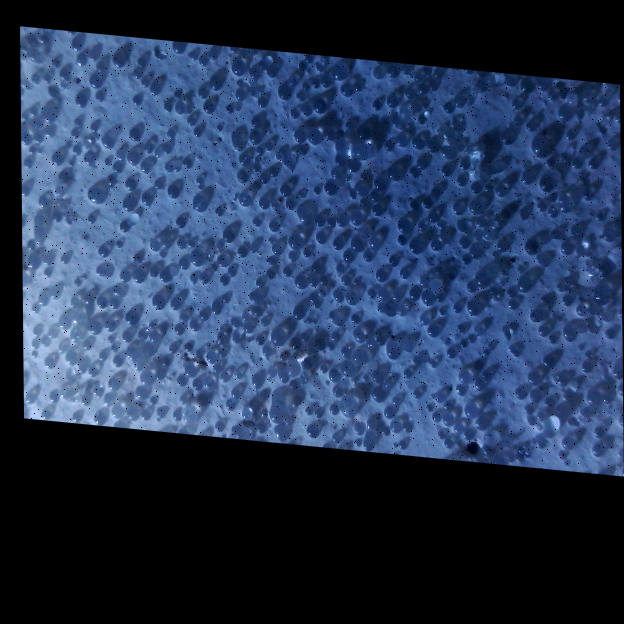GrassBeadSeg: (530, 139, 549, 159), (339, 396, 355, 417), (86, 188, 106, 204), (188, 250, 206, 267), (330, 65, 348, 81), (268, 406, 284, 424), (347, 238, 366, 253), (407, 239, 425, 254), (395, 219, 413, 234), (230, 60, 246, 76), (516, 277, 533, 292), (305, 130, 322, 145), (385, 343, 400, 360), (464, 302, 482, 316), (351, 350, 369, 364), (370, 388, 386, 403), (287, 234, 303, 249), (276, 86, 292, 101), (311, 99, 327, 114), (339, 363, 355, 378), (592, 291, 608, 306), (371, 177, 388, 191), (467, 201, 484, 215), (321, 182, 338, 196), (270, 331, 285, 346), (139, 371, 154, 386), (292, 276, 308, 290), (120, 198, 136, 212), (561, 328, 577, 342), (123, 311, 139, 325), (207, 77, 223, 91), (556, 105, 570, 121), (192, 196, 206, 212), (150, 296, 165, 310), (352, 330, 367, 344), (111, 55, 126, 69), (297, 209, 311, 224), (463, 405, 479, 418), (585, 392, 601, 405), (354, 127, 370, 140), (274, 427, 288, 441), (526, 372, 541, 385), (425, 325, 440, 338), (538, 179, 553, 192), (590, 445, 605, 458), (338, 84, 353, 97), (425, 141, 440, 154), (330, 238, 345, 251), (125, 152, 140, 165), (384, 96, 399, 109), (475, 275, 490, 288), (247, 130, 260, 145), (40, 109, 53, 124), (345, 291, 358, 306), (247, 292, 263, 304), (473, 419, 489, 431), (385, 169, 401, 181), (74, 95, 88, 108), (374, 270, 388, 283), (305, 426, 319, 439), (327, 369, 341, 382), (171, 41, 185, 54), (369, 371, 383, 384), (63, 352, 77, 365), (292, 130, 305, 144), (519, 81, 533, 94), (26, 256, 40, 269), (367, 237, 381, 250), (421, 291, 434, 305), (493, 185, 508, 197), (528, 311, 543, 323), (370, 205, 385, 217), (382, 407, 397, 419), (558, 243, 573, 255), (290, 308, 305, 320), (519, 173, 534, 185), (501, 130, 513, 145), (524, 240, 536, 255), (140, 193, 153, 206), (216, 255, 229, 268), (221, 229, 234, 242), (232, 138, 245, 151), (349, 213, 362, 226), (235, 172, 249, 184), (88, 77, 102, 89), (574, 305, 588, 317), (371, 68, 385, 80), (346, 161, 360, 173), (561, 438, 575, 450), (468, 247, 482, 259), (183, 366, 197, 378), (553, 374, 567, 386), (353, 183, 367, 195), (166, 185, 178, 199), (50, 154, 63, 166), (279, 185, 292, 197), (513, 388, 526, 400), (148, 84, 161, 96), (159, 271, 172, 283), (101, 137, 114, 149), (233, 90, 246, 102), (332, 290, 344, 303), (132, 271, 145, 283), (249, 117, 262, 129), (75, 55, 88, 67), (529, 391, 542, 403), (248, 68, 261, 80), (128, 128, 140, 141), (95, 295, 107, 308), (125, 178, 137, 191), (238, 193, 250, 206), (309, 263, 323, 274), (204, 352, 218, 363), (367, 192, 381, 203), (83, 151, 94, 165), (248, 307, 263, 317), (395, 305, 407, 317), (389, 421, 401, 433), (59, 317, 71, 329), (118, 271, 131, 282), (267, 222, 280, 233), (536, 326, 549, 337), (542, 356, 555, 367), (177, 259, 190, 270), (560, 296, 573, 307), (42, 358, 55, 369), (586, 159, 599, 170), (196, 88, 209, 99), (592, 428, 605, 439), (257, 199, 270, 210), (237, 155, 250, 166), (242, 323, 255, 334), (190, 379, 203, 390), (386, 68, 399, 79), (108, 378, 119, 391), (89, 322, 100, 335), (94, 412, 105, 425), (135, 387, 146, 400), (229, 425, 243, 435), (580, 362, 592, 373), (202, 103, 214, 114), (465, 282, 477, 293), (315, 233, 327, 244), (152, 180, 164, 191), (37, 197, 49, 208), (442, 415, 454, 426), (229, 388, 241, 399), (210, 303, 221, 315), (272, 245, 284, 256), (111, 406, 122, 418), (377, 289, 388, 301), (313, 215, 325, 226), (482, 228, 493, 240), (496, 240, 507, 252), (173, 218, 186, 228), (407, 168, 420, 178), (563, 131, 576, 141), (469, 184, 482, 194), (415, 159, 428, 169), (198, 274, 211, 284), (333, 156, 346, 166), (411, 357, 425, 366), (93, 92, 104, 103), (139, 162, 150, 173), (71, 40, 82, 51), (143, 143, 154, 154), (197, 56, 208, 67), (281, 268, 293, 278), (455, 386, 467, 396), (148, 241, 160, 251), (50, 213, 62, 223), (546, 208, 558, 218), (581, 191, 593, 201), (217, 276, 229, 286), (198, 311, 210, 321), (37, 296, 49, 306), (288, 340, 300, 350), (352, 83, 364, 93), (342, 252, 354, 262), (57, 173, 69, 183), (480, 371, 492, 381), (265, 256, 277, 266), (402, 422, 412, 434), (47, 289, 59, 299), (330, 170, 342, 180), (95, 64, 107, 74), (409, 289, 419, 301), (399, 268, 409, 280), (428, 211, 438, 223), (452, 203, 462, 215), (118, 223, 129, 233), (264, 270, 275, 280), (182, 159, 193, 169), (371, 101, 382, 111), (224, 401, 235, 411), (131, 96, 142, 106), (81, 340, 92, 350), (120, 333, 131, 343), (105, 176, 116, 186), (308, 277, 319, 287), (148, 268, 159, 278), (506, 288, 517, 298), (330, 433, 341, 443), (267, 168, 278, 178), (226, 267, 236, 278), (301, 359, 312, 369), (298, 333, 309, 343), (606, 140, 616, 151), (524, 121, 534, 132), (475, 82, 485, 93), (412, 138, 423, 148), (174, 103, 184, 114), (261, 345, 271, 356), (286, 366, 296, 377), (314, 340, 324, 351), (328, 311, 338, 322), (341, 346, 351, 357), (330, 332, 340, 343), (112, 163, 123, 173), (507, 301, 519, 310), (445, 349, 457, 358), (458, 239, 470, 248), (442, 440, 454, 449), (542, 399, 554, 408), (41, 256, 53, 265), (230, 319, 242, 328), (287, 252, 297, 262), (162, 103, 172, 113), (175, 239, 185, 249), (289, 109, 299, 119), (136, 59, 146, 69), (517, 211, 527, 221), (55, 187, 65, 197), (30, 75, 40, 85), (546, 90, 556, 100), (251, 379, 261, 389), (332, 387, 342, 397), (349, 315, 360, 324), (251, 218, 262, 227), (25, 241, 36, 250), (29, 305, 40, 314), (379, 427, 390, 436), (594, 213, 605, 222), (175, 377, 186, 386), (390, 397, 401, 406), (254, 279, 265, 288), (522, 406, 533, 415), (295, 93, 306, 102), (91, 388, 102, 397), (286, 78, 297, 87), (87, 52, 98, 61), (382, 380, 393, 389), (302, 106, 311, 117), (512, 115, 521, 126), (511, 99, 520, 110), (453, 96, 462, 107), (443, 103, 452, 114), (441, 166, 450, 177), (541, 296, 553, 304), (402, 369, 412, 378), (86, 215, 96, 224), (214, 208, 224, 217), (186, 117, 196, 126), (42, 269, 52, 278), (140, 79, 149, 89), (23, 159, 32, 169), (219, 374, 229, 383), (546, 336, 556, 345), (297, 62, 307, 71), (254, 146, 264, 155), (263, 143, 273, 152), (50, 59, 60, 68), (343, 122, 353, 131), (536, 81, 545, 91), (571, 159, 580, 169), (428, 81, 437, 91), (417, 85, 426, 95), (404, 89, 413, 99), (398, 109, 407, 119), (399, 64, 408, 74), (459, 161, 468, 171), (456, 176, 465, 186), (441, 148, 450, 158), (395, 136, 404, 146), (383, 142, 392, 152), (355, 150, 364, 160), (310, 78, 319, 88), (320, 77, 329, 87), (256, 98, 265, 108), (266, 69, 275, 79), (208, 50, 217, 60), (112, 357, 121, 367), (110, 299, 119, 309), (112, 287, 121, 297), (178, 313, 187, 323), (189, 321, 198, 331), (233, 369, 242, 379), (278, 373, 287, 383), (412, 389, 421, 399), (443, 401, 452, 411), (452, 424, 461, 434), (482, 446, 491, 456), (504, 451, 513, 461), (526, 416, 535, 426), (604, 329, 613, 339), (430, 241, 439, 251), (417, 222, 426, 232), (259, 174, 268, 184), (323, 131, 332, 141), (460, 257, 471, 265), (133, 254, 142, 263), (131, 70, 140, 79), (114, 151, 123, 160), (104, 322, 113, 331), (98, 248, 107, 257), (266, 368, 275, 377), (247, 402, 256, 411), (462, 431, 471, 440), (535, 439, 544, 448), (171, 411, 180, 420), (256, 424, 265, 433), (354, 426, 363, 435), (601, 394, 610, 403), (612, 369, 621, 378), (452, 304, 461, 313), (396, 236, 405, 245), (366, 289, 375, 298), (326, 219, 335, 228), (237, 248, 246, 257), (71, 146, 81, 154), (557, 451, 567, 459), (21, 186, 29, 196), (212, 365, 222, 373), (73, 120, 83, 128), (259, 319, 269, 327), (219, 296, 229, 304), (225, 104, 233, 114), (149, 332, 157, 342), (95, 266, 103, 276), (170, 300, 178, 310), (174, 325, 182, 335), (289, 380, 297, 390), (241, 409, 249, 419), (431, 412, 439, 422), (215, 422, 223, 432), (363, 441, 371, 451), (536, 411, 544, 421), (458, 373, 466, 383), (474, 381, 482, 391), (422, 199, 430, 209), (335, 264, 343, 274), (302, 248, 310, 258), (388, 257, 396, 267), (376, 336, 384, 346), (475, 218, 483, 228), (456, 222, 464, 232), (473, 231, 481, 241), (228, 47, 239, 54), (189, 275, 197, 284), (21, 136, 29, 145), (70, 130, 78, 139), (84, 297, 92, 306), (72, 414, 80, 423), (156, 409, 164, 418), (98, 352, 106, 361), (168, 345, 176, 354), (255, 336, 263, 345), (259, 391, 267, 400), (329, 405, 337, 414), (25, 395, 33, 404), (398, 441, 406, 450), (419, 316, 427, 325), (419, 277, 427, 286), (409, 202, 417, 211), (58, 31, 66, 40), (340, 276, 348, 285), (285, 201, 293, 210), (164, 163, 172, 172), (162, 145, 170, 154), (167, 130, 175, 139), (193, 128, 201, 137), (363, 253, 371, 262), (376, 303, 384, 312), (172, 92, 182, 99), (190, 51, 197, 61), (462, 69, 473, 75), (312, 187, 320, 195), (73, 279, 81, 287), (60, 256, 68, 264), (57, 345, 65, 353), (41, 338, 49, 346), (103, 398, 111, 406), (127, 412, 135, 420), (161, 359, 169, 367), (41, 411, 49, 419), (178, 396, 186, 404), (436, 432, 445, 439), (72, 316, 79, 325), (49, 394, 56, 403), (134, 362, 141, 371), (314, 409, 321, 418), (70, 299, 77, 307), (48, 330, 55, 338), (33, 328, 40, 336), (81, 397, 88, 405), (88, 369, 95, 377), (141, 412, 148, 420), (149, 397, 156, 405), (144, 348, 151, 356), (535, 255, 542, 263), (597, 100, 604, 107), (556, 284, 563, 291), (613, 222, 620, 229), (516, 266, 523, 273), (456, 325, 463, 332), (537, 204, 544, 211), (598, 269, 605, 276), (550, 232, 557, 239), (574, 229, 581, 236), (617, 450, 623, 458), (455, 144, 461, 152), (451, 122, 457, 130), (447, 138, 453, 146), (484, 185, 490, 193), (429, 360, 435, 368), (582, 96, 588, 103), (557, 197, 563, 204), (466, 97, 472, 104), (414, 75, 420, 82), (417, 117, 423, 124), (235, 80, 241, 87), (107, 336, 113, 343), (110, 345, 116, 352), (115, 241, 121, 248), (279, 354, 285, 361), (251, 415, 257, 422), (304, 408, 310, 415), (326, 343, 332, 350), (319, 278, 325, 285), (603, 234, 609, 241), (467, 336, 473, 343), (474, 328, 480, 335), (459, 340, 465, 347), (352, 279, 358, 286), (275, 210, 281, 217), (249, 246, 255, 253), (187, 241, 193, 248), (195, 178, 201, 185), (150, 158, 156, 165), (359, 200, 365, 207), (215, 125, 221, 131), (584, 108, 590, 114), (601, 119, 607, 125), (568, 99, 574, 105), (486, 78, 492, 84), (561, 157, 567, 163), (545, 161, 551, 167), (560, 206, 566, 212), (433, 72, 439, 78), (420, 103, 426, 109), (302, 85, 308, 91), (305, 57, 311, 63), (274, 154, 280, 160), (28, 148, 34, 154), (104, 160, 110, 166), (35, 239, 41, 245), (78, 367, 84, 373), (31, 342, 37, 348), (184, 345, 190, 351), (148, 323, 154, 329), (319, 367, 325, 373), (289, 402, 295, 408), (283, 420, 289, 426), (317, 290, 323, 296), (354, 440, 360, 446), (447, 273, 453, 279), (337, 220, 343, 226), (297, 191, 303, 197), (271, 204, 277, 210), (215, 244, 221, 250), (154, 151, 160, 157), (137, 334, 142, 341), (232, 336, 237, 343), (260, 410, 265, 417), (329, 282, 334, 289), (366, 423, 371, 430), (253, 166, 258, 173), (268, 237, 273, 244), (162, 242, 167, 249), (349, 192, 354, 199), (62, 75, 67, 81), (31, 56, 36, 62), (40, 38, 45, 44), (21, 116, 26, 122), (46, 131, 51, 137), (35, 138, 40, 144), (219, 351, 224, 357), (426, 405, 431, 411), (435, 396, 440, 402), (438, 309, 443, 315), (436, 296, 441, 302), (435, 269, 440, 275), (210, 265, 215, 271), (159, 252, 164, 258), (174, 166, 179, 172), (58, 72, 63, 77), (82, 143, 87, 148), (88, 138, 93, 143), (90, 127, 95, 132), (362, 376, 367, 381), (562, 396, 567, 401), (601, 421, 606, 426), (491, 253, 496, 258), (492, 297, 497, 302), (536, 425, 541, 430), (487, 344, 492, 349), (392, 296, 397, 301), (350, 151, 355, 156), (60, 83, 64, 89), (30, 111, 34, 117), (584, 353, 588, 359), (252, 313, 259, 316), (316, 68, 321, 72), (259, 64, 263, 69), (296, 150, 300, 155), (281, 154, 285, 159), (44, 78, 48, 83), (500, 271, 504, 276), (498, 282, 502, 287), (497, 292, 501, 297), (489, 290, 493, 295), (508, 347, 512, 352), (512, 352, 516, 357), (483, 351, 487, 356), (428, 257, 432, 262), (439, 226, 443, 231), (436, 223, 440, 228), (345, 176, 349, 181), (360, 176, 364, 181), (578, 172, 582, 176), (406, 124, 410, 128), (248, 81, 252, 85), (283, 161, 287, 165), (32, 354, 36, 358), (312, 320, 316, 324), (305, 319, 309, 323), (312, 304, 316, 308), (555, 317, 559, 321), (536, 248, 540, 252), (570, 233, 574, 237), (173, 45, 176, 50), (392, 122, 395, 127), (436, 130, 439, 134), (310, 301, 314, 304), (429, 394, 432, 398), (392, 444, 396, 447), (562, 462, 566, 465), (576, 418, 580, 421), (615, 464, 619, 467), (601, 375, 605, 378), (577, 346, 580, 350), (599, 314, 602, 318), (232, 198, 236, 201), (443, 136, 446, 139), (95, 138, 98, 141), (93, 167, 96, 170), (71, 220, 74, 223), (63, 215, 66, 218), (73, 328, 76, 331), (72, 338, 75, 341), (77, 331, 80, 334), (70, 399, 73, 402), (67, 397, 70, 400), (61, 394, 64, 397), (116, 399, 119, 402), (156, 419, 159, 422), (170, 374, 173, 377), (156, 377, 159, 380), (161, 381, 164, 384), (127, 354, 130, 357), (216, 348, 219, 351), (217, 339, 220, 342), (325, 382, 328, 385), (309, 298, 312, 301), (523, 455, 526, 458), (530, 440, 533, 443), (551, 315, 554, 318), (567, 290, 570, 293), (570, 284, 573, 287), (567, 270, 570, 273), (211, 252, 214, 255), (207, 254, 210, 257), (198, 188, 201, 191), (234, 194, 237, 197), (369, 344, 372, 347), (366, 344, 369, 347), (442, 134, 445, 136), (38, 151, 40, 154), (69, 164, 72, 166), (66, 222, 68, 225), (82, 277, 85, 279), (76, 335, 78, 338), (75, 399, 77, 402), (168, 378, 170, 381), (130, 357, 132, 360), (197, 356, 199, 359), (217, 342, 219, 345), (242, 340, 244, 343), (239, 335, 241, 338), (267, 379, 269, 382), (302, 373, 304, 376), (303, 320, 305, 323), (318, 309, 320, 312), (516, 459, 519, 461), (506, 445, 508, 448), (522, 457, 524, 460), (518, 449, 520, 452), (166, 238, 169, 240), (230, 249, 232, 252), (227, 254, 229, 257), (77, 378, 79, 380), (214, 342, 216, 344), (304, 379, 306, 381), (525, 452, 527, 454)
